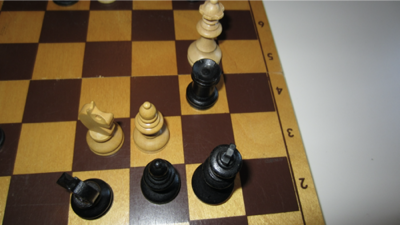black-bishop: (140, 158, 181, 205)
black-king: (191, 143, 244, 206)
black-knight: (56, 172, 115, 221)
black-rook: (186, 58, 222, 111)
white-bishop: (133, 101, 170, 155)
white-knight: (78, 101, 125, 157)
white-queen: (187, 1, 226, 69)
